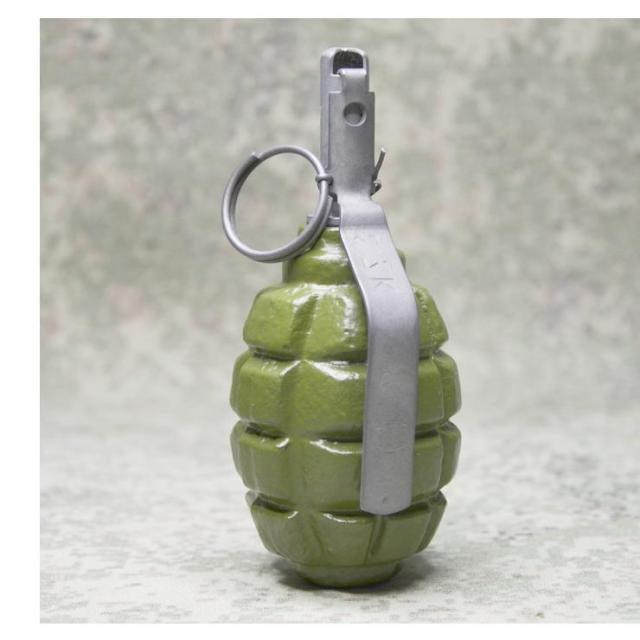grenade: (223, 50, 463, 581)
